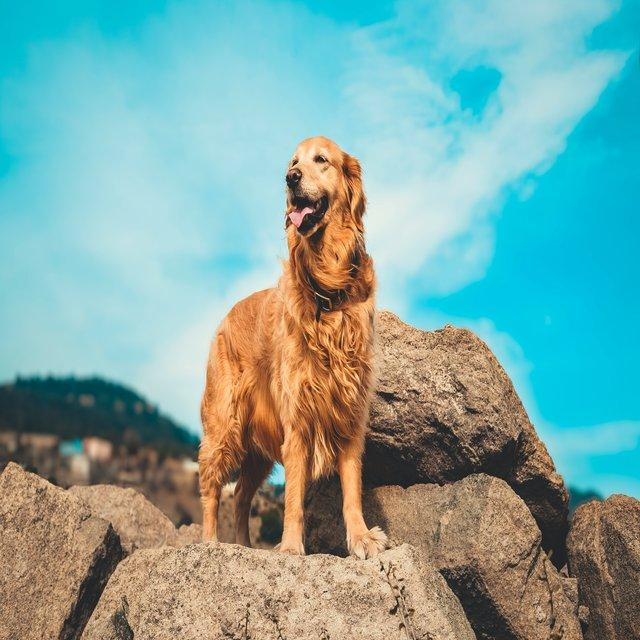retriever: (195, 134, 388, 560)
